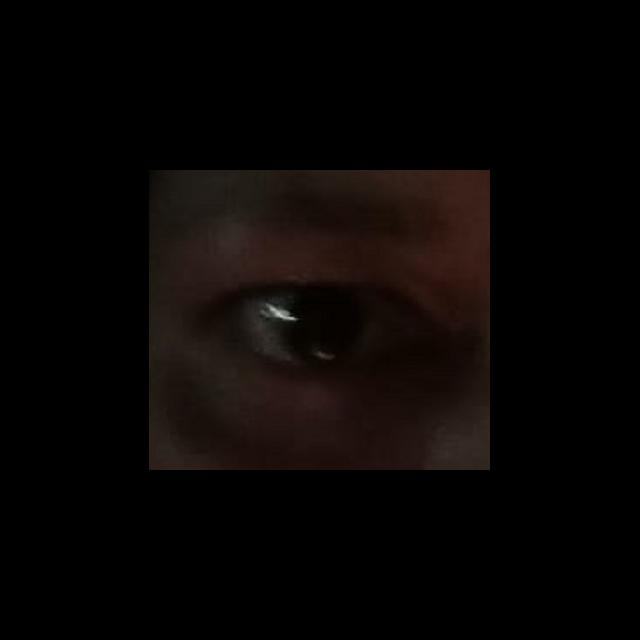eye: (227, 284, 420, 375)
iris: (273, 291, 368, 366)
